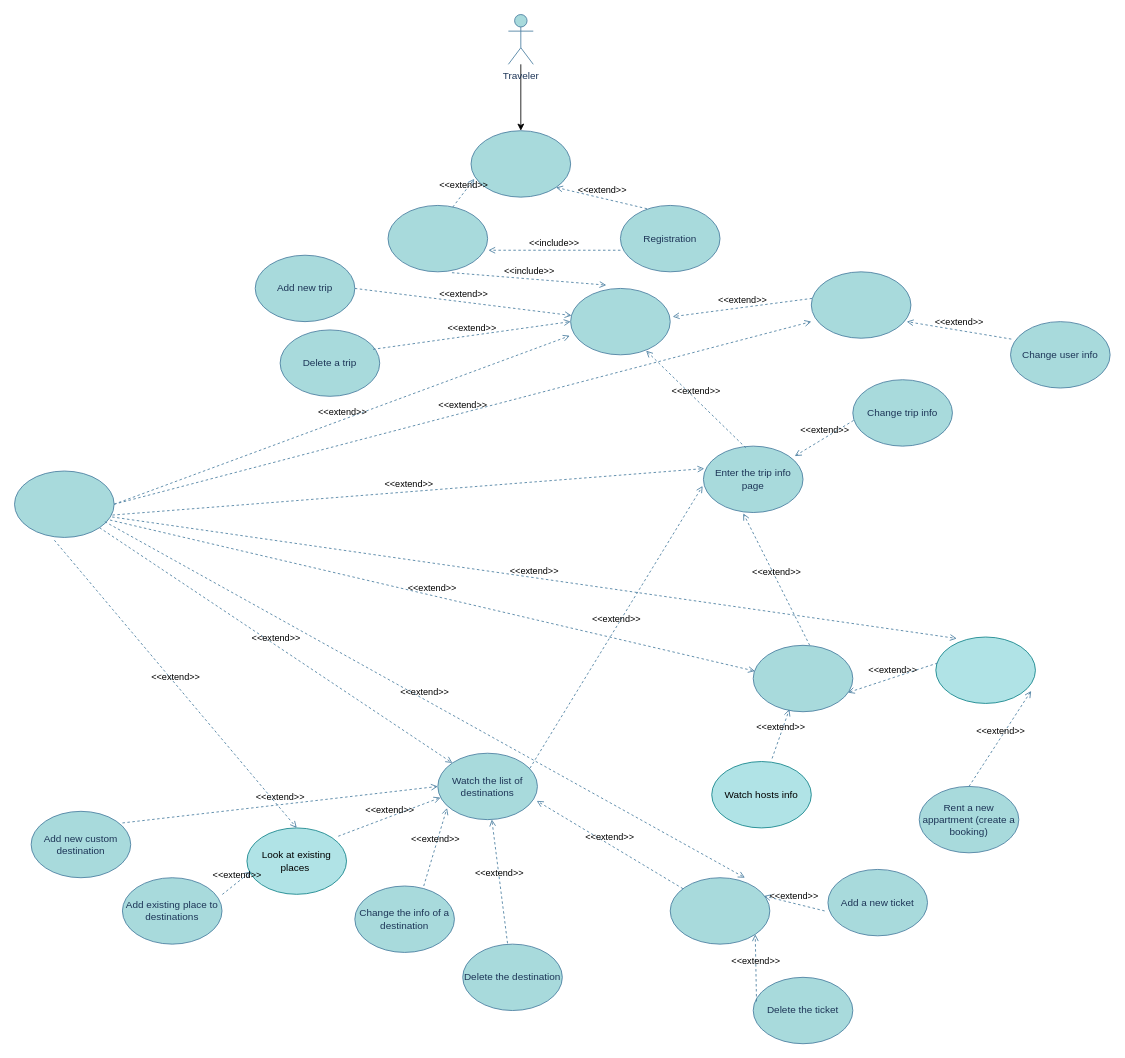
The diagram is 1125 pixels wide and 1058 high, and some of its shapes have lost their labels. Each missing label, with the centre of its shape:
"Log out" belongs at pixel 64 503.
"Login" belongs at pixel 437 238.
"Watch all my bookings" belongs at pixel 802 678.
"Watch apartments to rent" belongs at pixel 985 669.
"Watch the list of trips" belongs at pixel 620 321.
"Watch the page of account" belongs at pixel 860 304.
"Watch the start page" belongs at pixel 520 163.
"Watch tickets for a destination" belongs at pixel 719 910.
